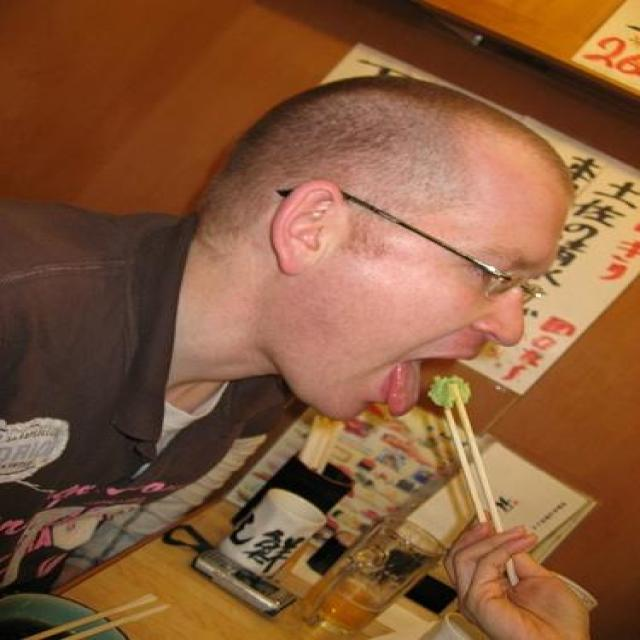No_Gloves: (438, 509, 593, 640)
